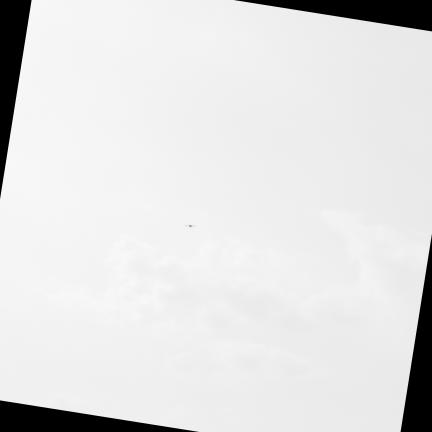Shahed: (185, 225, 195, 227)
